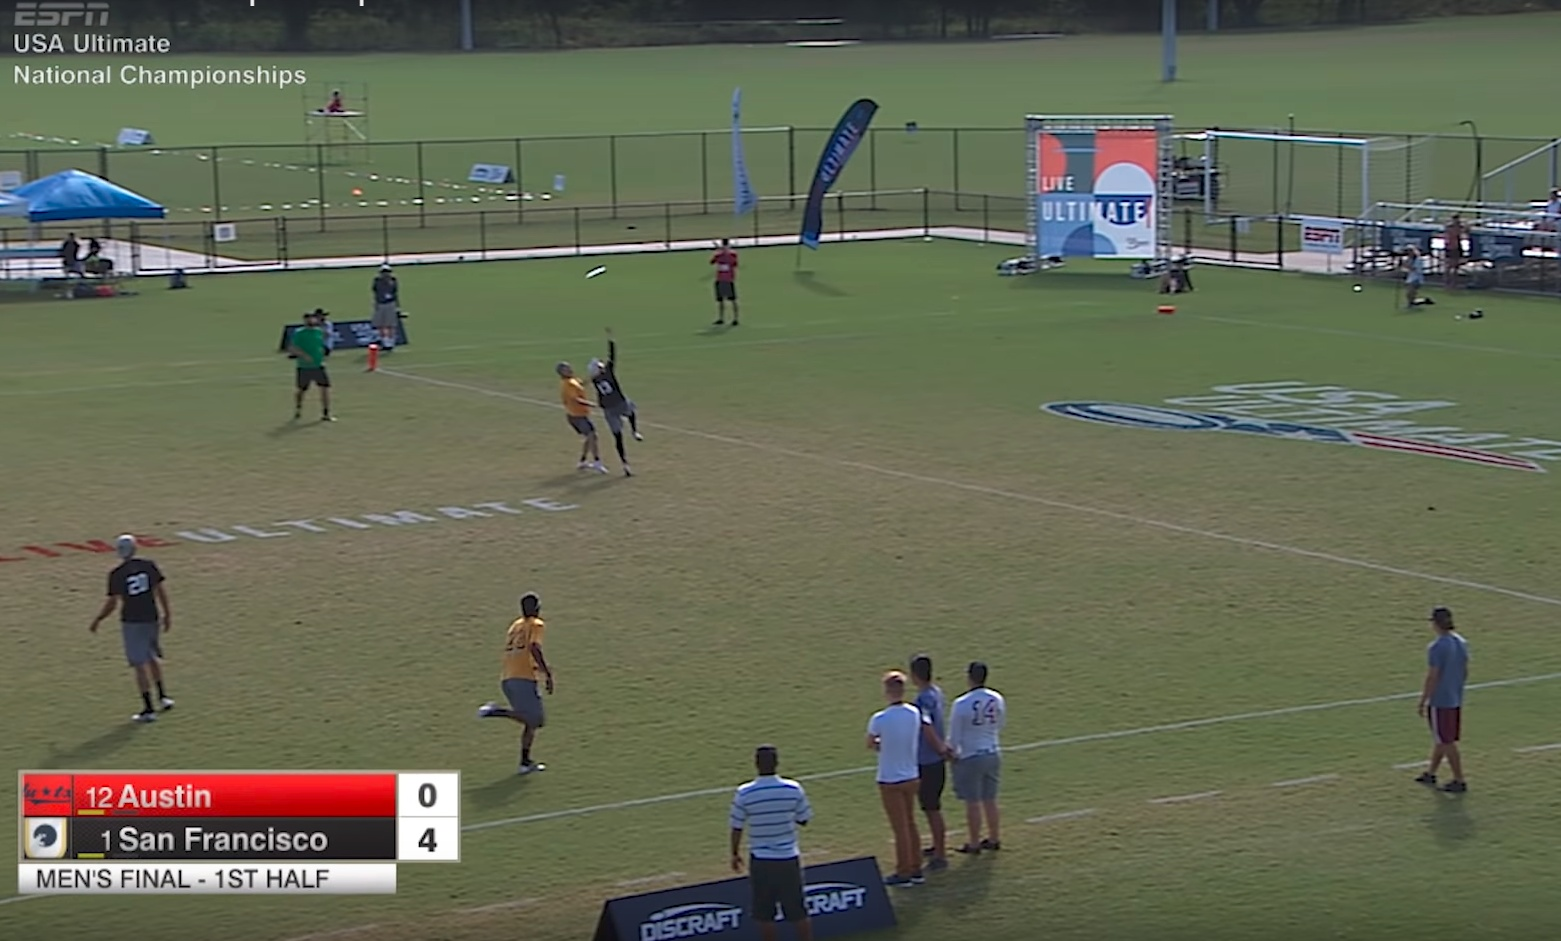frisbee: (585, 265, 607, 279)
